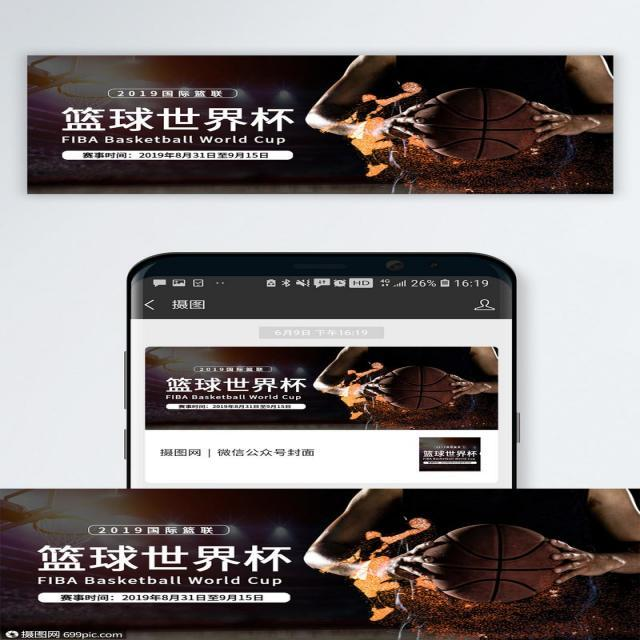rim: (418, 523, 570, 604), (408, 89, 542, 161), (380, 368, 454, 408)
